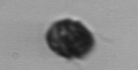plankton: (41, 15, 99, 63)
